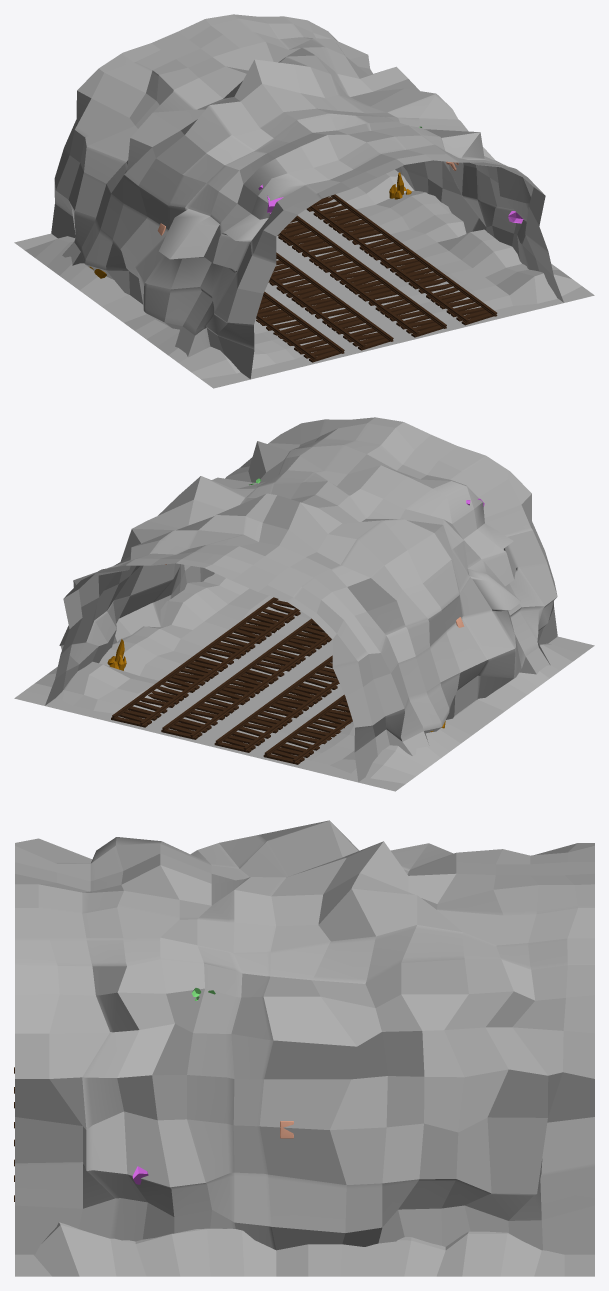
File: Tunnel Variation 3.fbx
The picture shows the model from 3 angles, top to bottom: view 1: azimuth 30°, elevation 25°; view 2: azimuth 150°, elevation 25°; view 3: azimuth 270°, elevation 25°; orthographic projection. The views are drawn at different scales.
Visible parts, largest first — view 1: floor3_low, rails2_low, gem3_low; view 2: floor3_low, rails2_low; view 3: floor3_low.
Boxes of the visible parts, x1=… form: floor3_low: x1=14, y1=14, x2=594, y2=388; rails2_low: x1=256, y1=194, x2=497, y2=362; gem3_low: x1=89, y1=126, x2=523, y2=278; floor3_low: x1=14, y1=417, x2=594, y2=791; rails2_low: x1=111, y1=597, x2=352, y2=764; floor3_low: x1=15, y1=820, x2=594, y2=1276.
Bounding box in the file's own units: 22.53 × 11.33 × 20.44.
